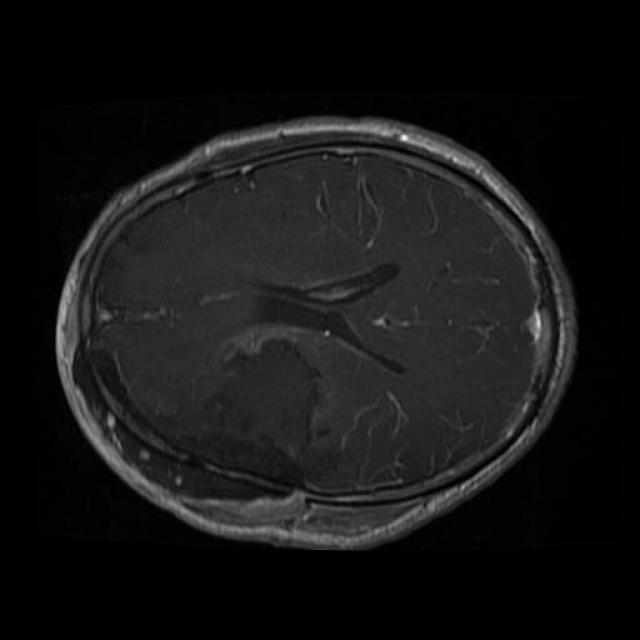Glioma: (79, 341, 321, 525)
